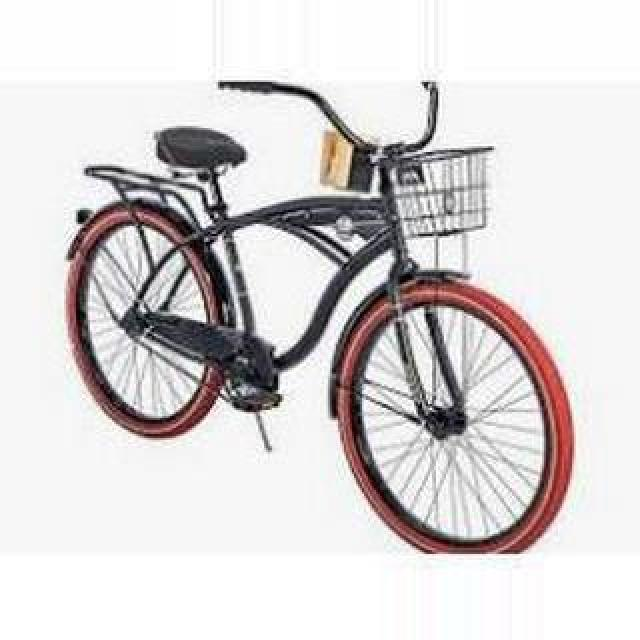Person: (68, 76, 580, 564)
